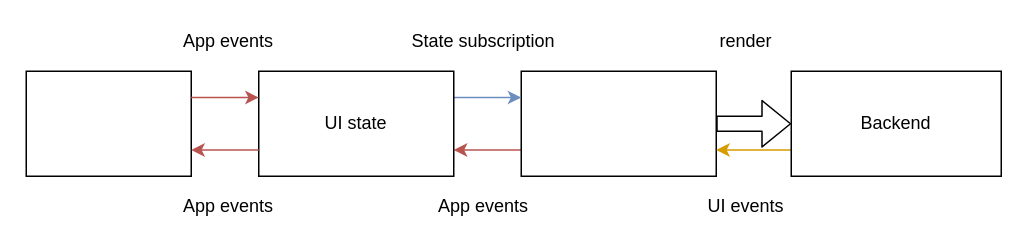
Image size: 1028x246. Some labels were removed from this diagram. Here are the shapes that lost their labels. From the top down, the box of each, then its label:
(25, 70, 191, 176): Application
(520, 70, 716, 176): Widget-tree
